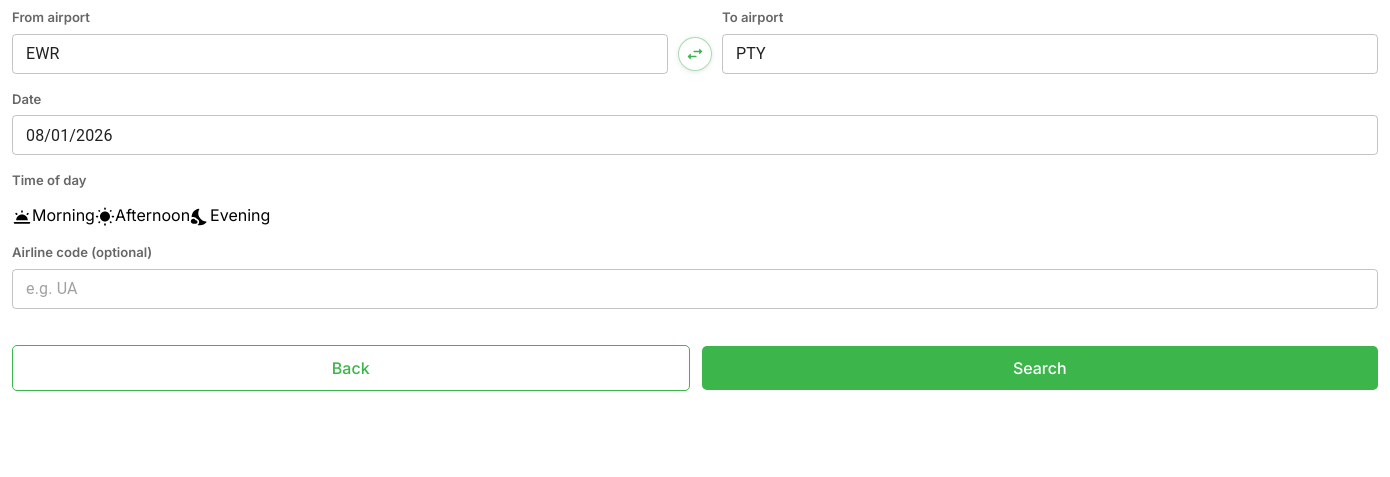
it: FlightDeparturesSearch › shows the empty state after a search that returns nothing
This screenshot has width=1390, height=477.
Click the button "Search": [1040, 368] box [702,346,1378,390]
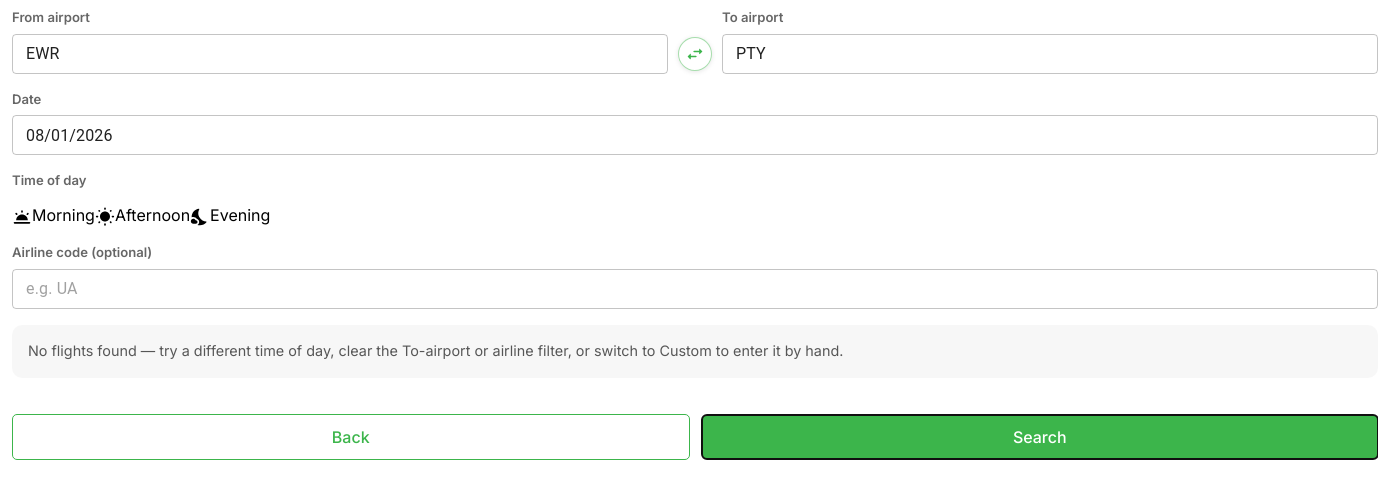
Expected: the text "No flights found" is shown, [28,342,843,359]
